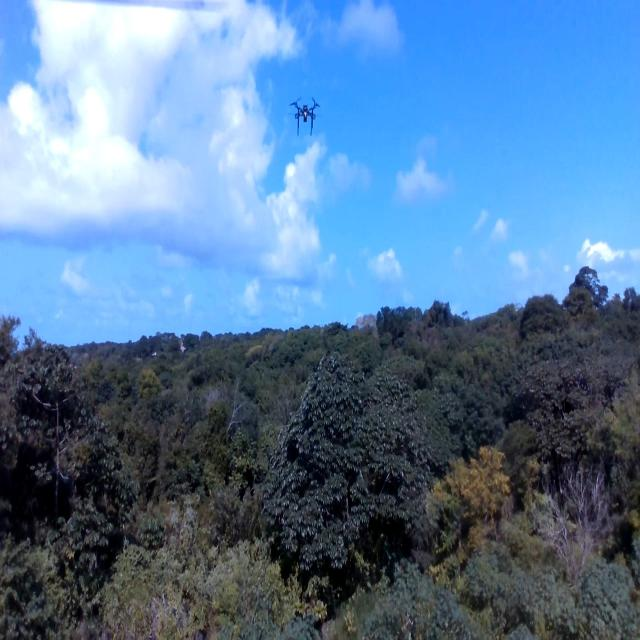-uav-: (284, 88, 334, 152)
